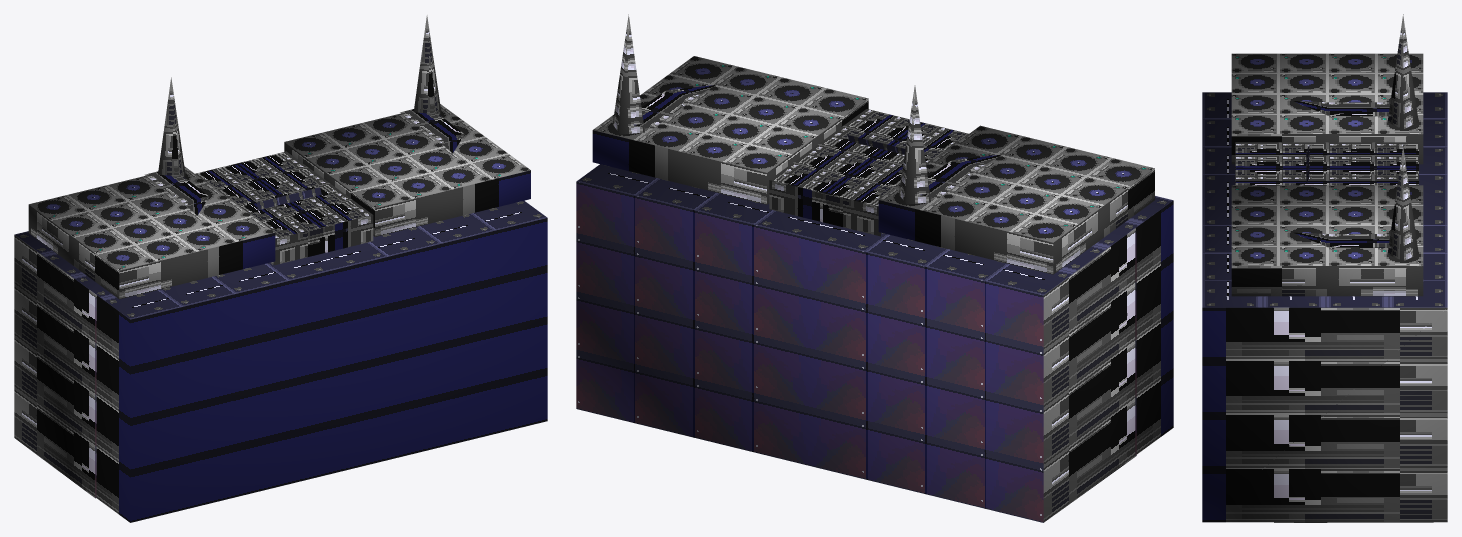
The model's file is 3307IMIG08_01.gltf.
The picture shows the model from 3 angles, left to right: view 1: azimuth 30°, elevation 25°; view 2: azimuth 150°, elevation 25°; view 3: azimuth 270°, elevation 25°; orthographic projection. The views are drawn at different scales.
Parts seen in each view (by area): view 1: 3307IMIG08_01; view 2: 3307IMIG08_01; view 3: 3307IMIG08_01.
Boxes of the visible parts, box(x1,y1,x2,y2) form: 3307IMIG08_01: box(14, 15, 547, 522); 3307IMIG08_01: box(576, 14, 1173, 522); 3307IMIG08_01: box(1202, 14, 1447, 522).
Bounding box in the file's own units: 1.75 × 1.37 × 0.8374.
4 materials, 4 textured.
